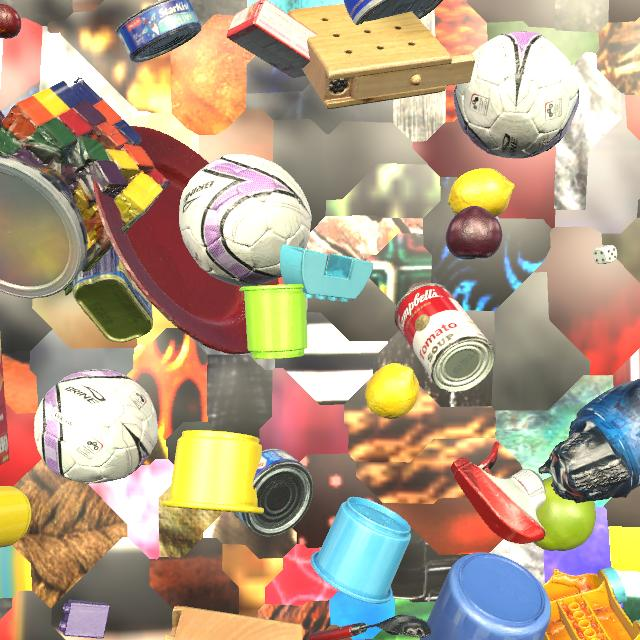ycb_002_master_chef_can: (343, 0, 443, 25)
ycb_003_cracker_box: (0, 335, 9, 465)
ycb_005_tomato_soup_can: (394, 283, 495, 393)
ycb_007_tuna_fish_can: (233, 449, 313, 536), (116, 0, 201, 62)
ycb_009_gelatin_box: (226, 0, 318, 78)
ycb_010_potted_meat_can: (73, 247, 153, 343)
ycb_014_lemon: (448, 168, 515, 217), (365, 363, 420, 419)
ycb_016_pear: (533, 476, 596, 551)
ycb_018_plum: (446, 206, 502, 260), (0, 111, 5, 128)
